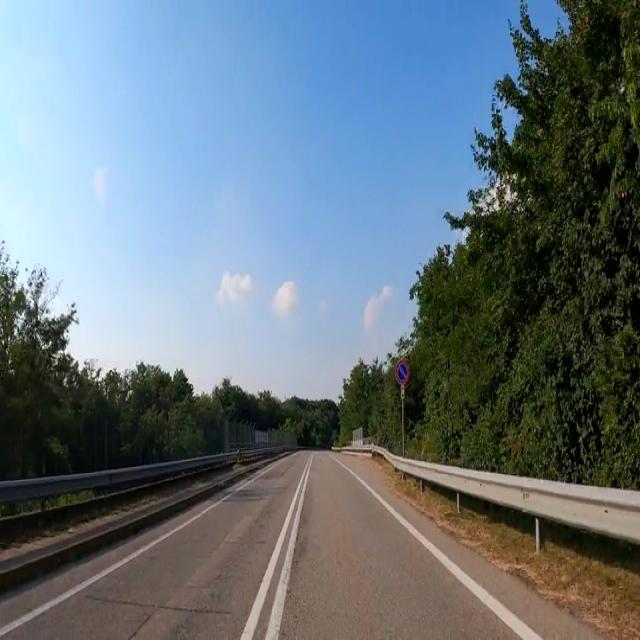lane: (0, 470, 268, 637), (333, 459, 541, 639), (241, 467, 306, 639), (265, 456, 312, 640)
road: (0, 452, 595, 638)
